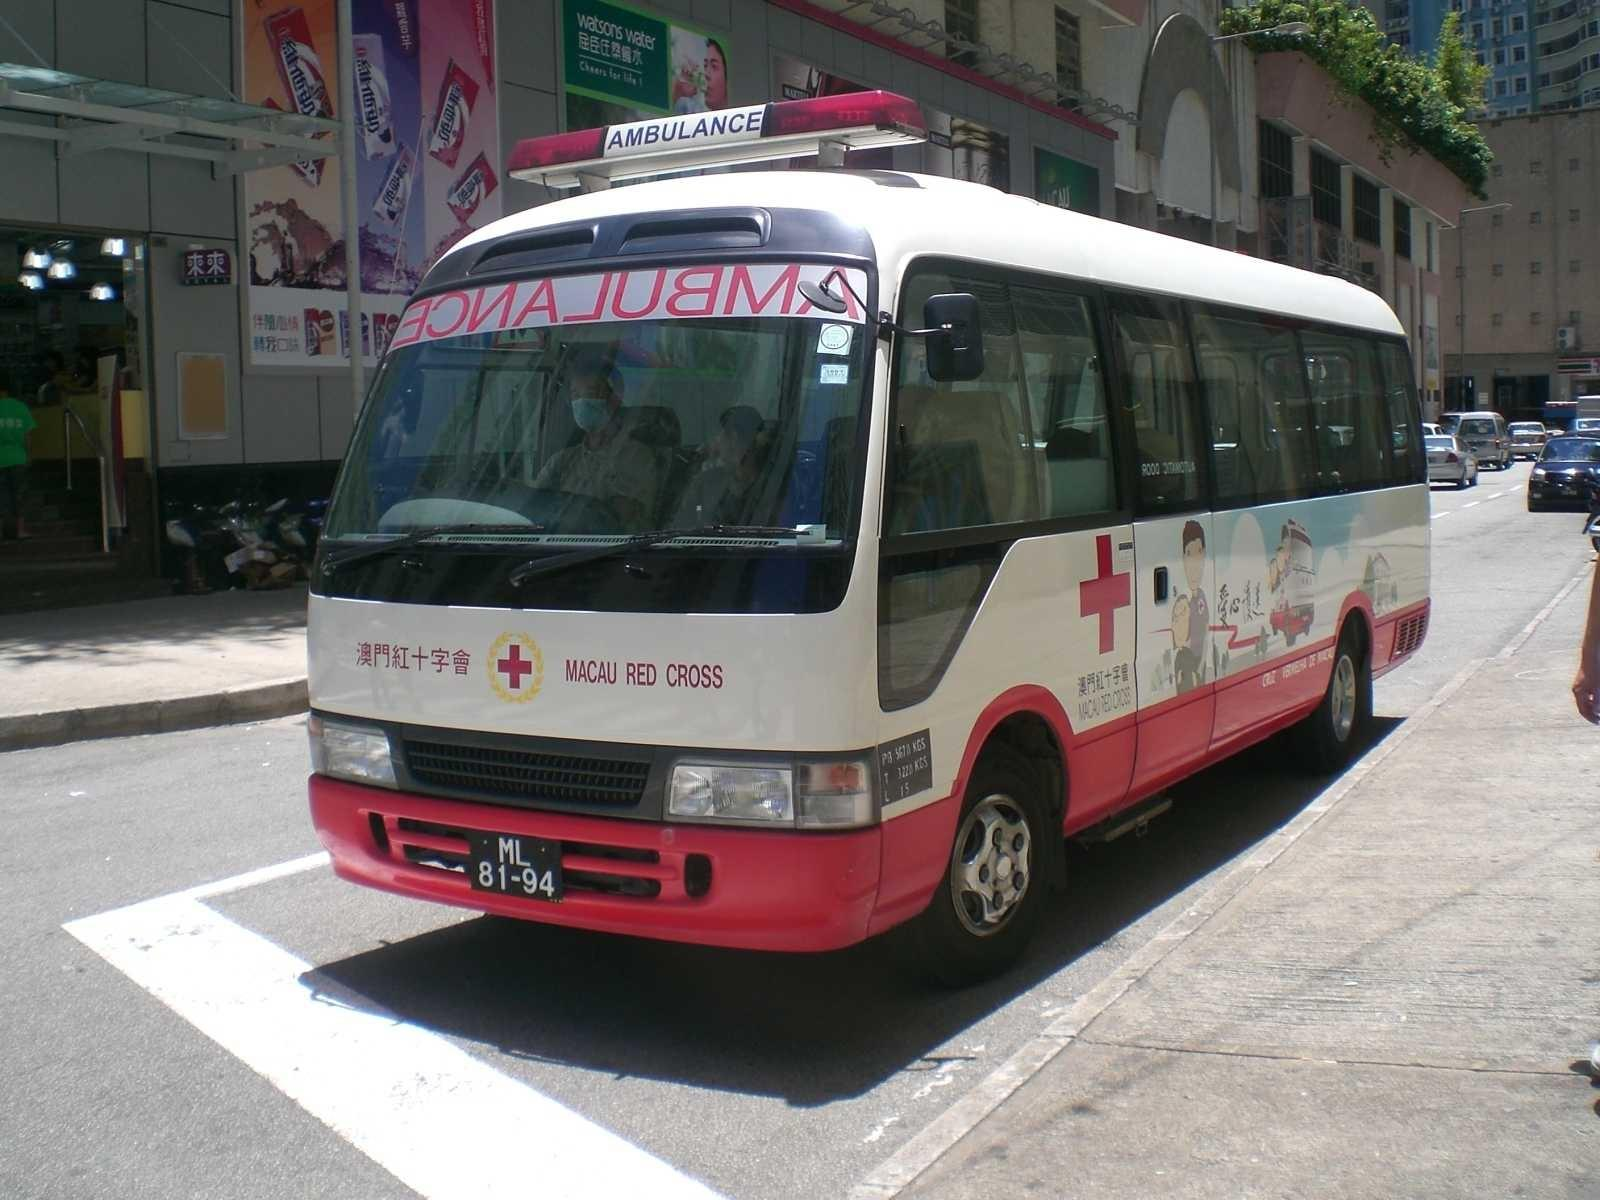car: (304, 88, 1432, 986)
